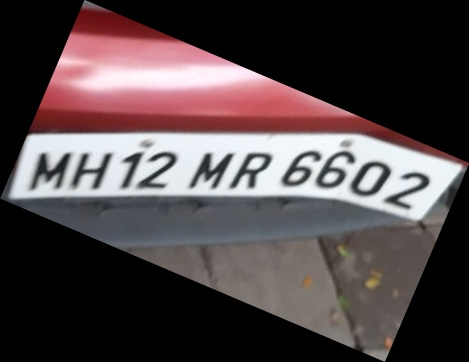character: (384, 169, 430, 210), (186, 151, 234, 187), (28, 149, 69, 190), (71, 150, 112, 189), (229, 151, 272, 188), (137, 150, 176, 190), (314, 149, 354, 188), (349, 159, 391, 195), (281, 151, 321, 187), (118, 151, 141, 190)
